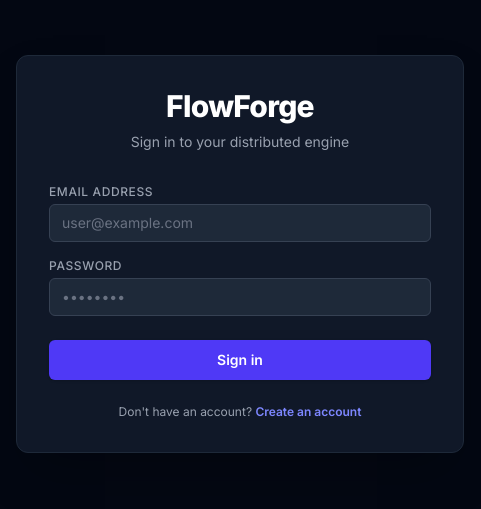
LoginPage Form Component › displays error message banner when login fails on bad credentials
In the field with placeholder "user@example.com": (240, 223) top-left (49, 204), bottom-right (431, 242), type "baduser@example.com"
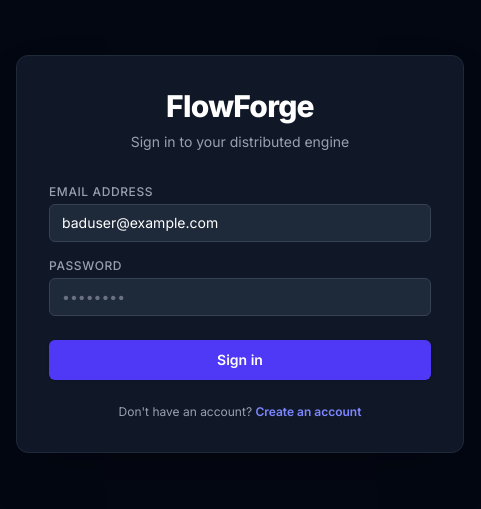
In the password field with placeholder "••••••••": (240, 297) top-left (49, 278), bottom-right (431, 316), type "wrongpassword"
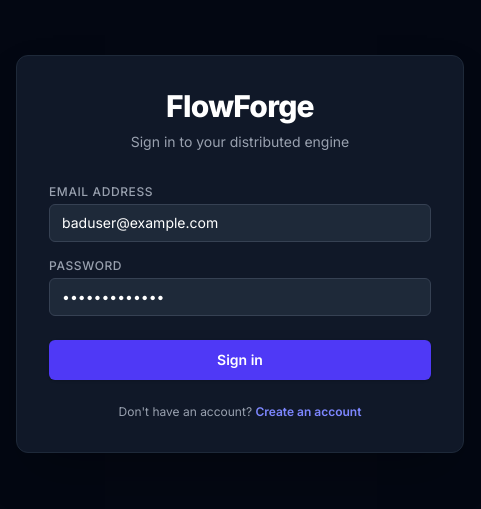
Click the button "Sign in": (240, 360) top-left (49, 340), bottom-right (431, 380)
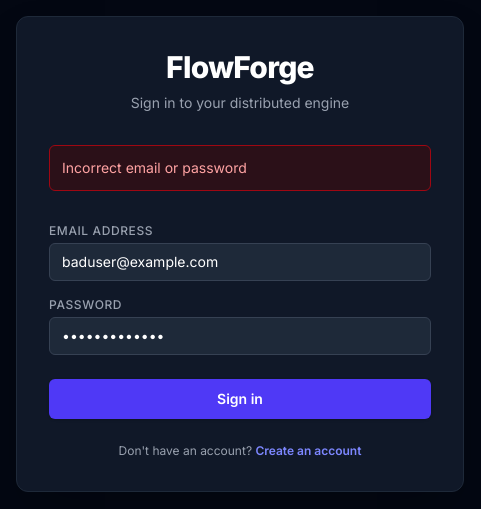
Expected: the text "Incorrect email or password" is shown, top-left (49, 145), bottom-right (431, 191)
